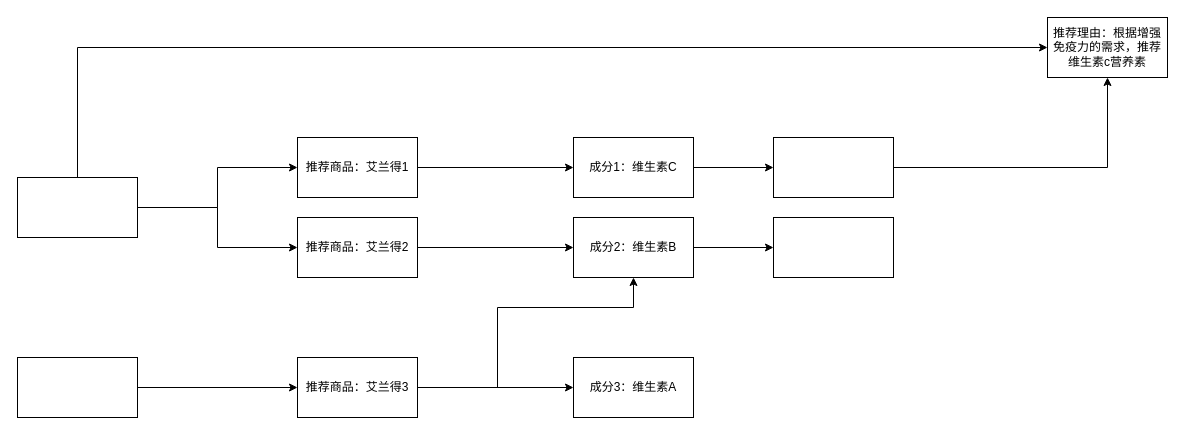
This 1185x435 diagram has some shape labels left out. Each missing label, with the centre of its shape:
成分作用：可以呵护眼睛: the point at 833,247
成分作用：可以增强免疫力: the point at 833,167
诉求:增强免疫力: the point at 77,207
诉求:皮肤健康: the point at 77,387
